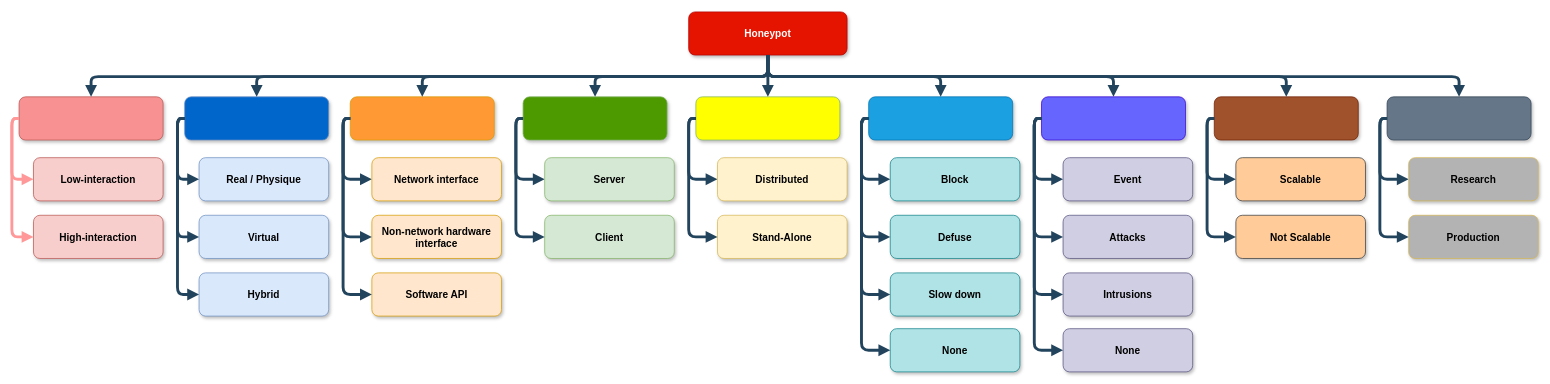
This 1550x384 diagram has some shape labels left out. Each missing label, with the centre of its shape:
Communication interfaces: point 423,119
Containment: point 941,119
Context: point 1459,119
Data capturing: point 1114,119
Distribution Appearance: point 768,119
Interaction Level: point 91,119
Multi-tier architecture: point 595,119
Ressource level: point 257,119
Scalability: point 1287,119
